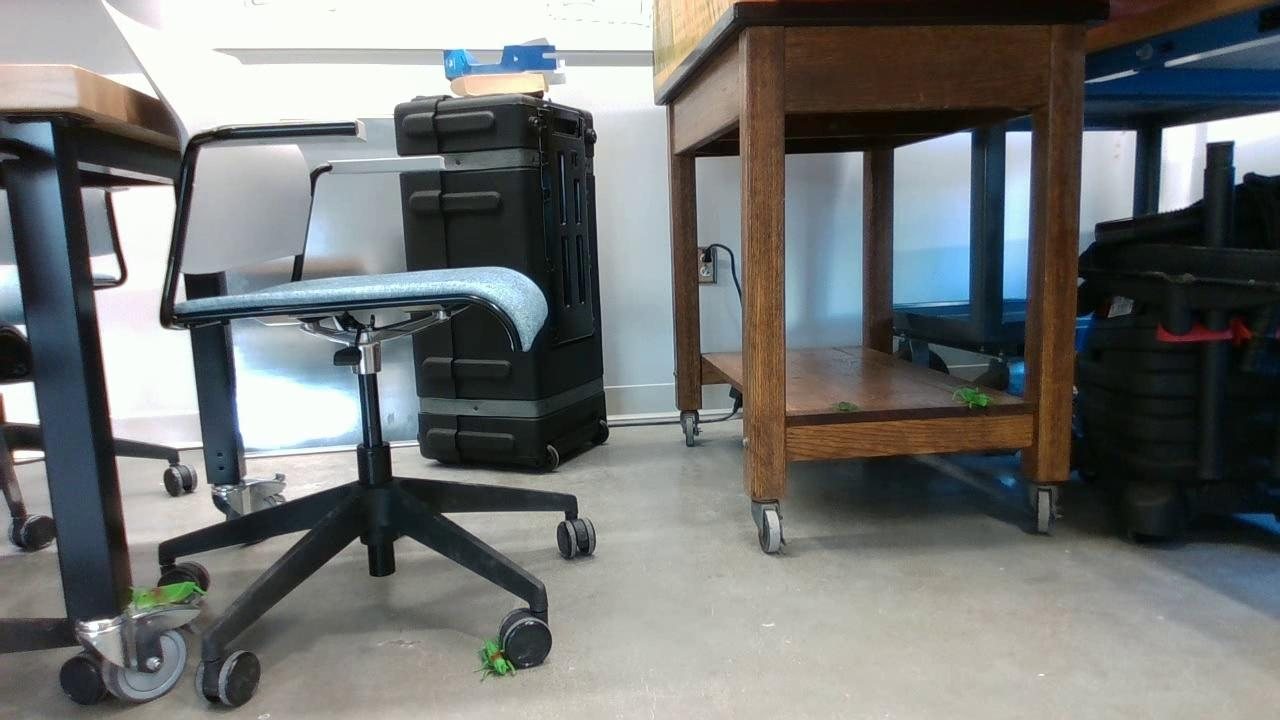grasshopper: (125, 579, 206, 615), (474, 640, 518, 682), (951, 384, 993, 409)
